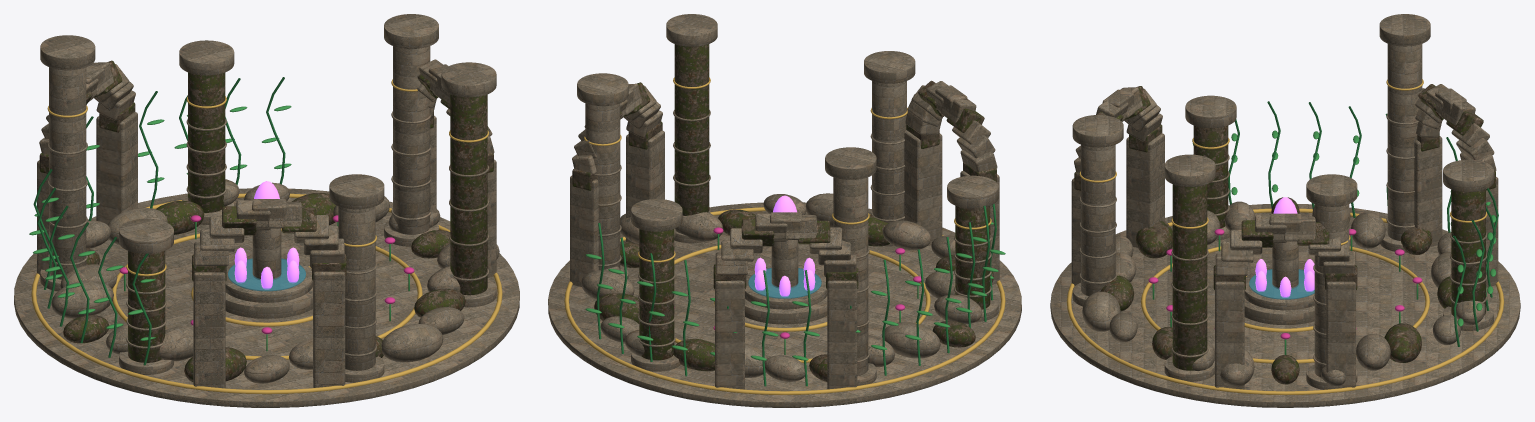
The model's file is fantasy_ruin_courtyard.glb.
3 renders of one model, left to right at view 1: azimuth 30°, elevation 25°; view 2: azimuth 150°, elevation 25°; view 3: azimuth 270°, elevation 25°, orthographic. The views are drawn at different scales.
Visible parts, largest first — view 1: RefinedSurface_Ruin_Limestone, RefinedSurface_Ruin_MossyStone, RefinedSurface_Ruin_DarkStone, RefinedSurface_Ruin_RuneGold, RefinedSurface_Ruin_Vines, RefinedSurface_Ruin_Moss, RefinedSurface_Ruin_RuneCrystal, Fountain_Water; view 2: RefinedSurface_Ruin_Limestone, RefinedSurface_Ruin_MossyStone, RefinedSurface_Ruin_DarkStone, RefinedSurface_Ruin_RuneGold, RefinedSurface_Ruin_Vines, RefinedSurface_Ruin_Moss, RefinedSurface_Ruin_RuneCrystal, Fountain_Water; view 3: RefinedSurface_Ruin_Limestone, RefinedSurface_Ruin_MossyStone, RefinedSurface_Ruin_DarkStone, RefinedSurface_Ruin_RuneGold, RefinedSurface_Ruin_Vines, RefinedSurface_Ruin_Moss, RefinedSurface_Ruin_RuneCrystal, Fountain_Water, RefinedSurface_Ruin_Wildflower.
Boxes of the visible parts, <box> form: RefinedSurface_Ruin_Limestone: <box>14,46,519,407</box>; RefinedSurface_Ruin_MossyStone: <box>39,60,493,381</box>; RefinedSurface_Ruin_DarkStone: <box>40,14,496,382</box>; RefinedSurface_Ruin_RuneGold: <box>31,79,502,394</box>; RefinedSurface_Ruin_Vines: <box>33,77,285,365</box>; RefinedSurface_Ruin_Moss: <box>29,105,409,351</box>; RefinedSurface_Ruin_RuneCrystal: <box>234,181,299,289</box>; Fountain_Water: <box>228,258,305,291</box>; RefinedSurface_Ruin_Limestone: <box>548,81,1021,407</box>; RefinedSurface_Ruin_MossyStone: <box>572,44,996,381</box>; RefinedSurface_Ruin_DarkStone: <box>577,14,998,385</box>; RefinedSurface_Ruin_RuneGold: <box>564,77,1005,394</box>; RefinedSurface_Ruin_Vines: <box>597,203,996,386</box>; RefinedSurface_Ruin_Moss: <box>585,222,1005,360</box>; RefinedSurface_Ruin_RuneCrystal: <box>754,195,815,296</box>; Fountain_Water: <box>748,268,821,298</box>; RefinedSurface_Ruin_Limestone: <box>1050,44,1520,407</box>; RefinedSurface_Ruin_MossyStone: <box>1074,84,1495,384</box>; RefinedSurface_Ruin_DarkStone: <box>1072,14,1493,389</box>; RefinedSurface_Ruin_RuneGold: <box>1066,79,1504,395</box>; RefinedSurface_Ruin_Vines: <box>1228,101,1498,346</box>; RefinedSurface_Ruin_Moss: <box>1152,130,1496,354</box>; RefinedSurface_Ruin_RuneCrystal: <box>1255,197,1314,297</box>; Fountain_Water: <box>1249,269,1314,299</box>; RefinedSurface_Ruin_Wildflower: <box>1148,229,1422,339</box>.
Size of the model in its own units: 11.4 by 5.98 by 11.4.
9 materials, 3 textured.
